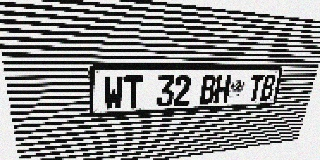2: (173, 75, 191, 106)
3: (156, 75, 175, 107)
B: (199, 75, 217, 105), (260, 74, 276, 101)
H: (214, 75, 231, 104)
T: (124, 75, 143, 109), (247, 75, 265, 102)
W: (103, 76, 124, 110)
